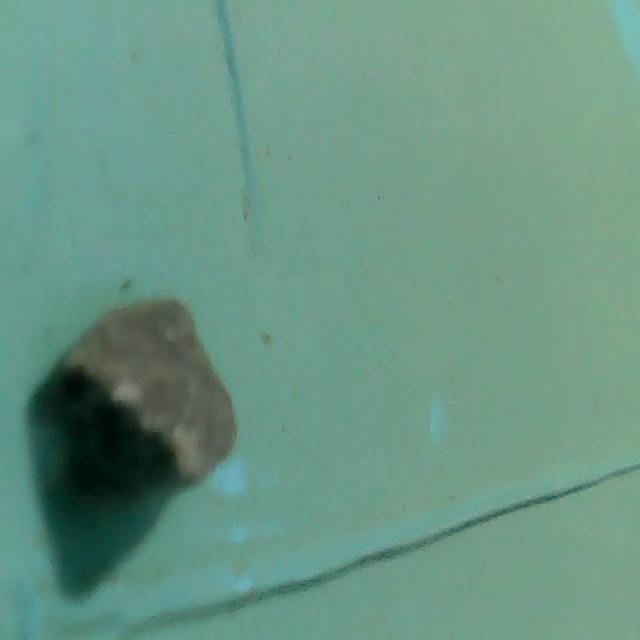rock: (50, 289, 248, 498)
